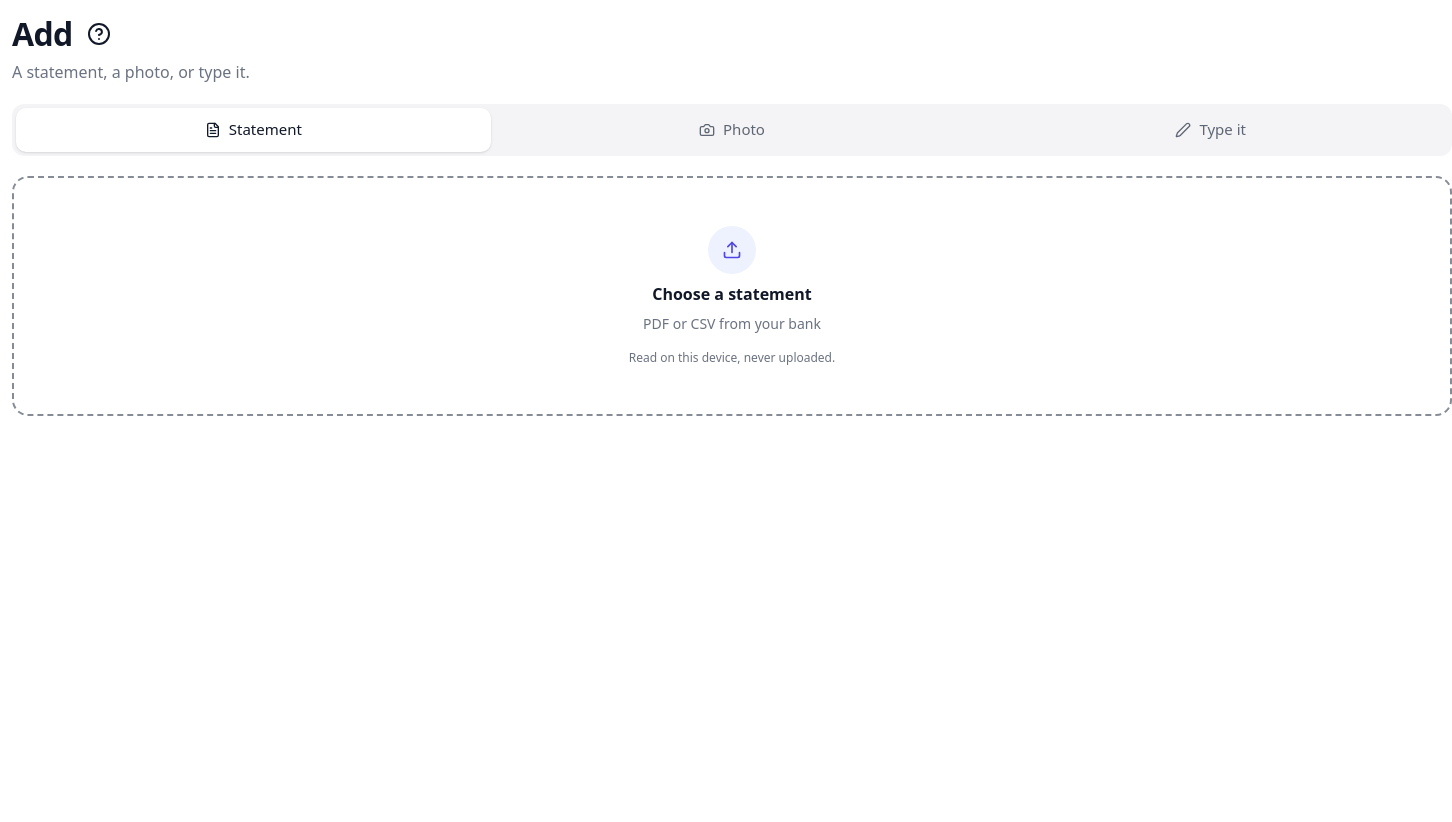
Test: Type it › adds nothing dated 0026-09-27, and asks for the full year
Click the tab "Type it". click: (1211, 130)
box: [973,108,1448,152]
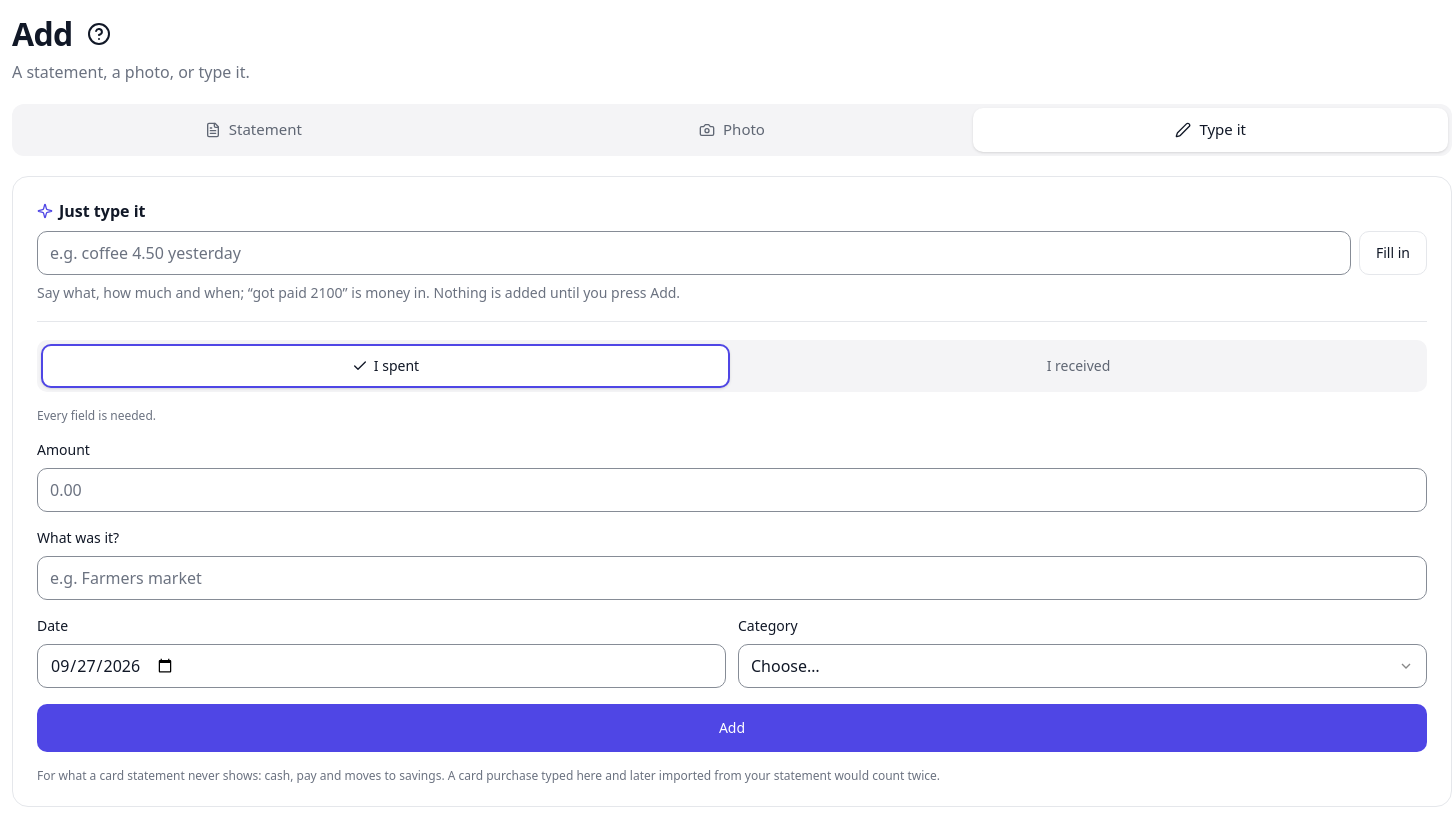
Type "40" into the field labelled "Amount". click: (732, 490)
box: [37,468,1427,512]
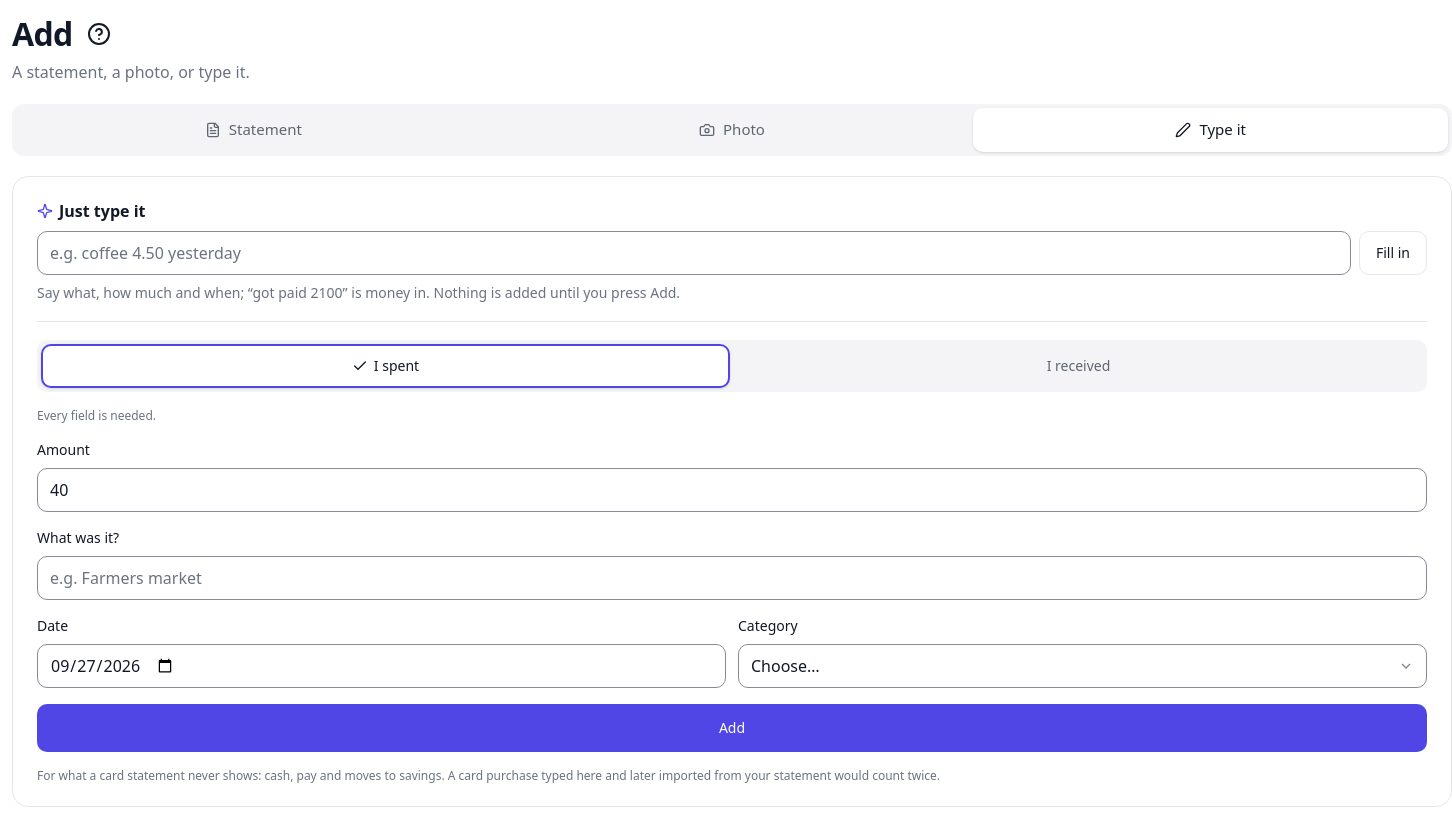
Type "Dentist" into the field labelled "What was it?". click: (732, 578)
box: [37,556,1427,600]
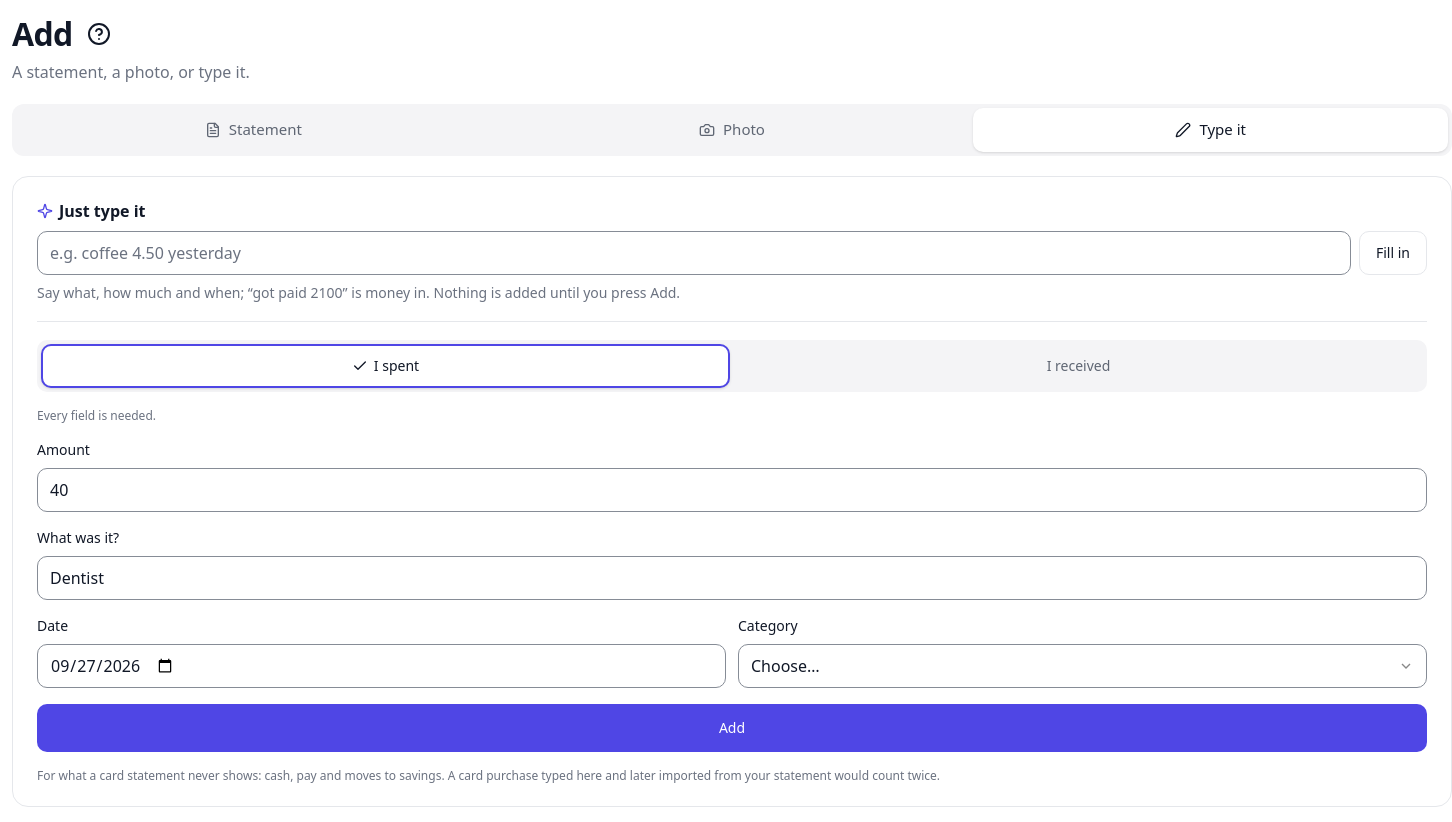
Select "Groceries" in the dropdown labelled "Category". click: (1082, 666)
box: [738,644,1427,688]
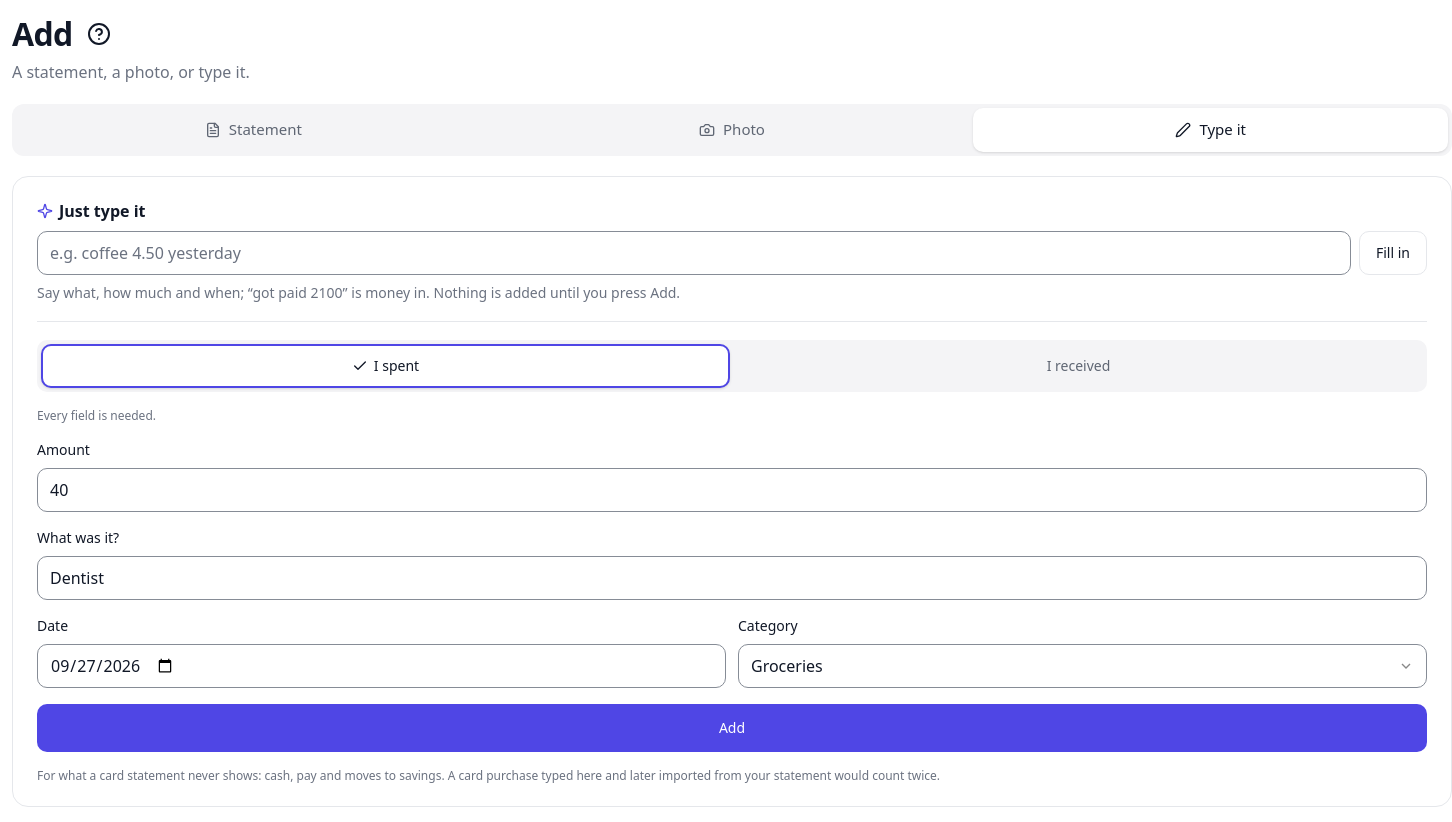
Type "0026-09-27" into the date field labelled "Date". click: (382, 666)
box: [37,644,726,688]
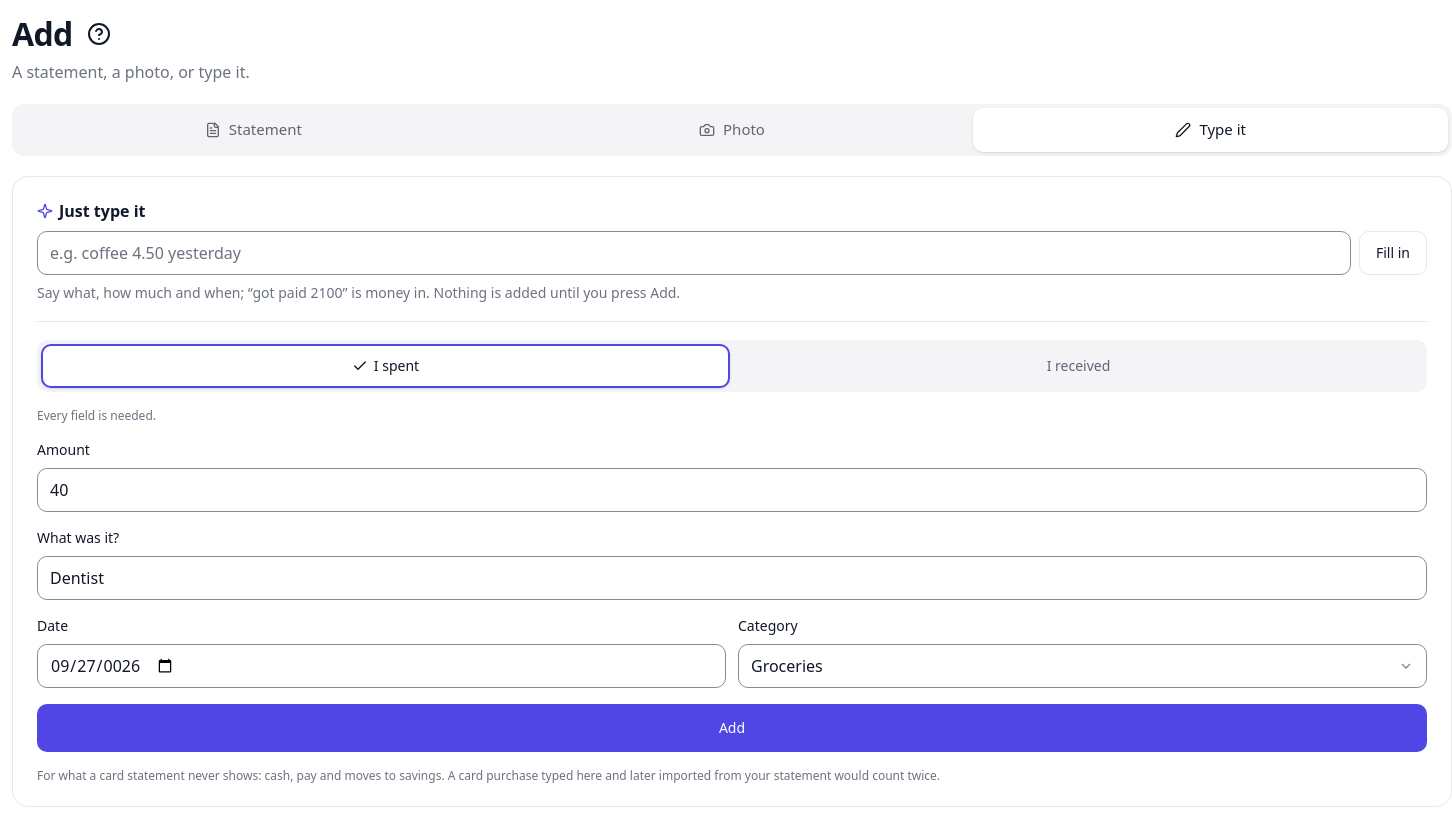
Click the button "Add". click: (732, 728)
box: [37,704,1427,752]
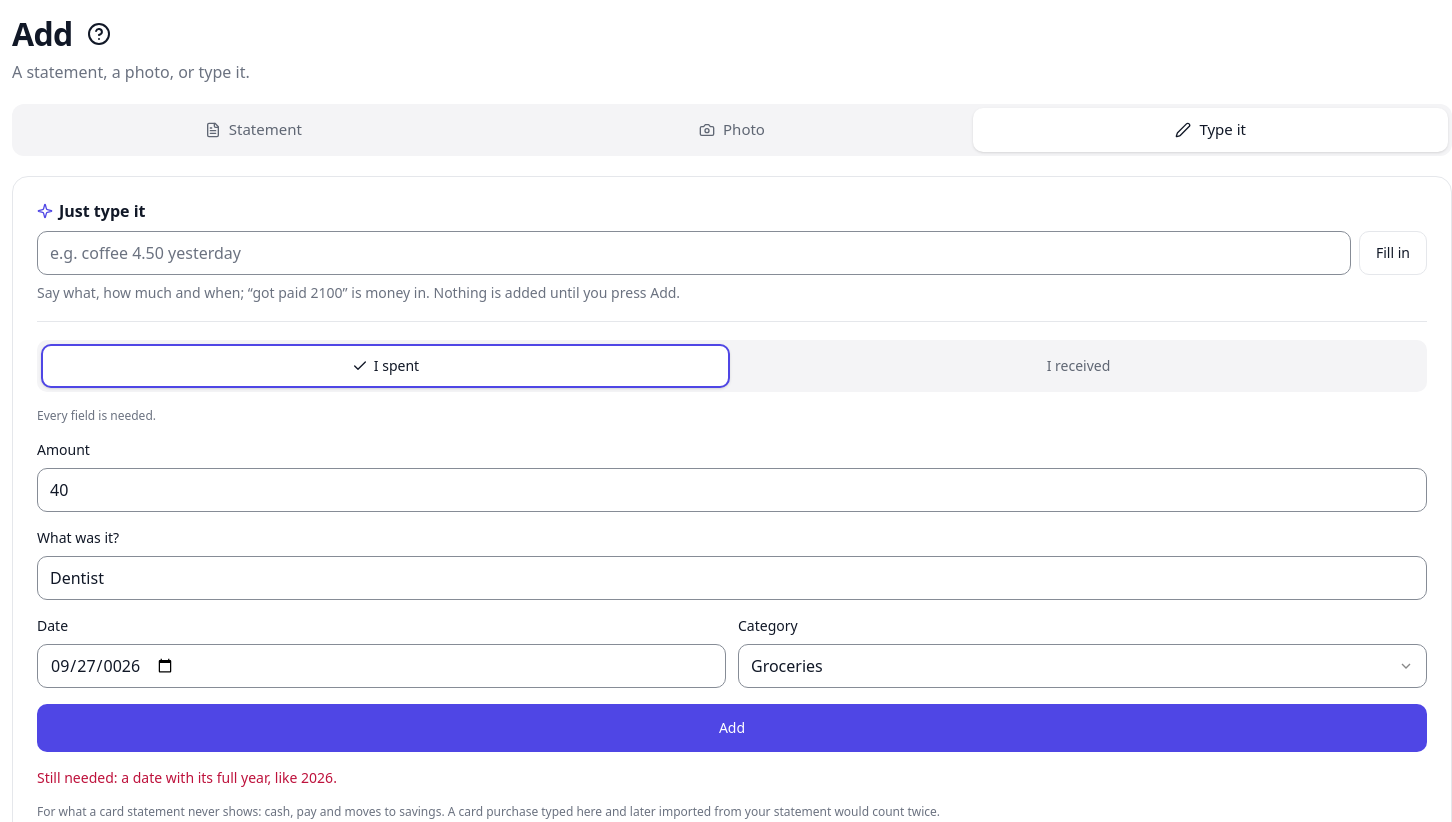
Expected: the text "Still needed: a date with its full year, like 2026." is shown, [37,768,337,787]
